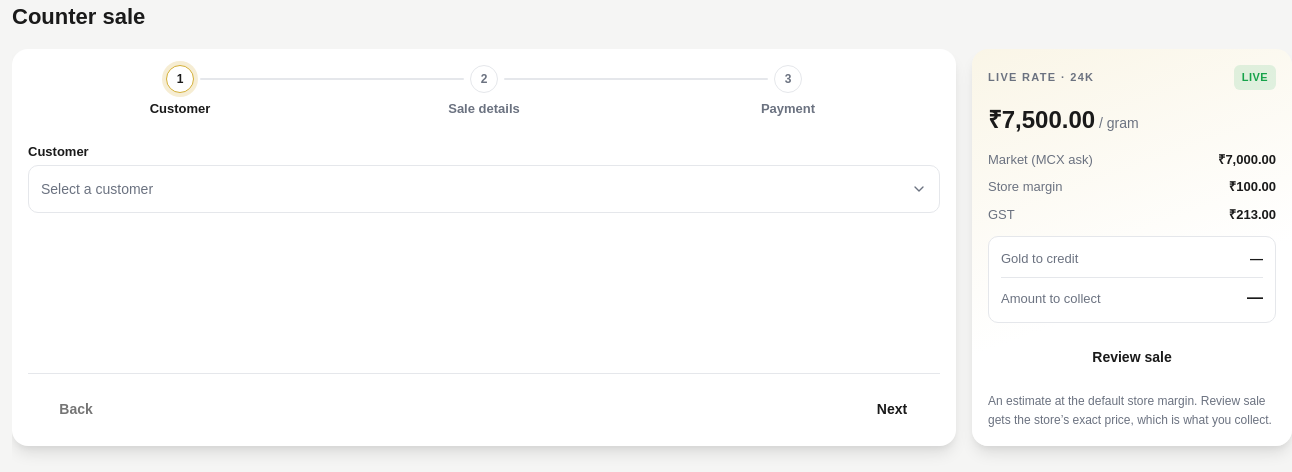
Test: CounterSalePanel › sends the cashier back to the customer step when reviewing without one
Click the button "Review sale": (1132, 357) [988,334,1276,380]
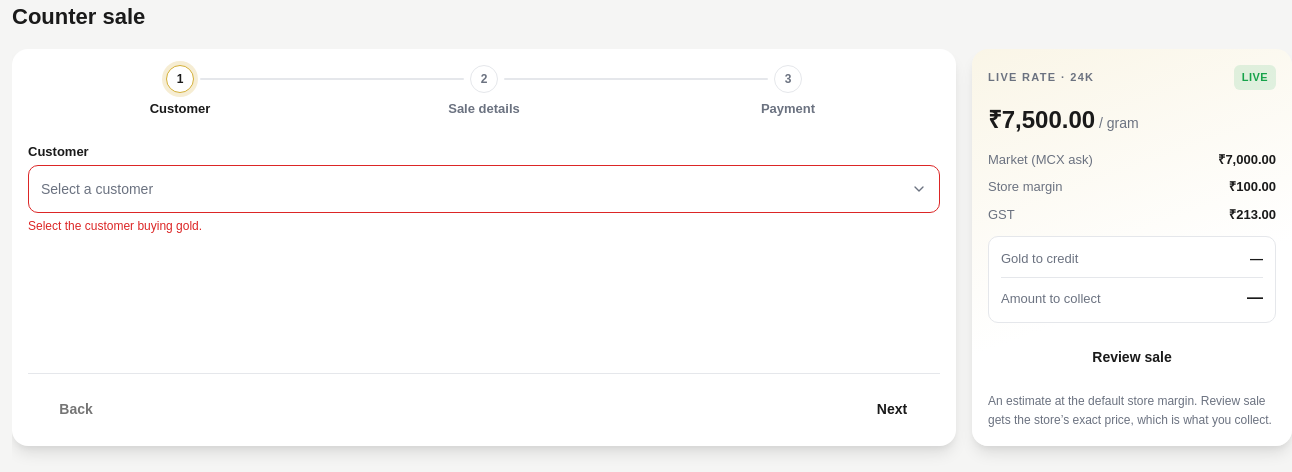
Expected: the text "Select the customer buying gold." is shown, [28,219,202,233]
